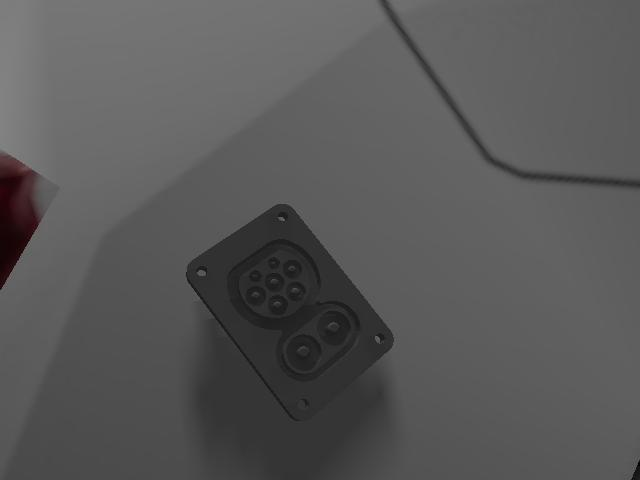EV-socket: (188, 205, 392, 420)
